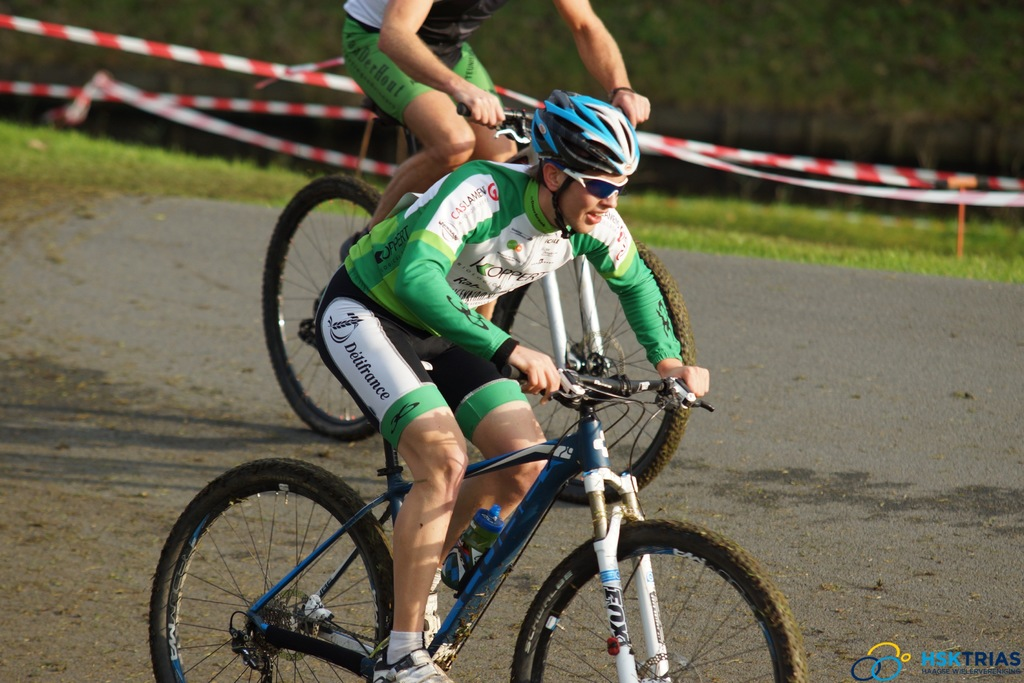Bike: (132, 336, 730, 683)
